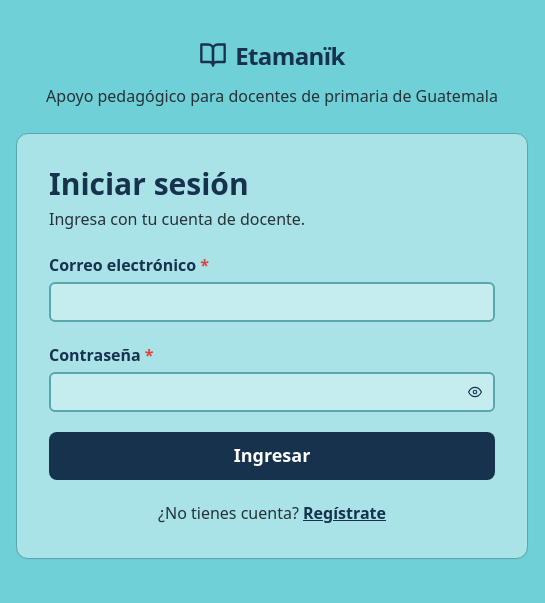
Test case: Inicio de sesión › valida antes de enviar y enfoca el primer campo con error
Click the button "Ingresar" at point(272, 456), box [49,432,495,480]
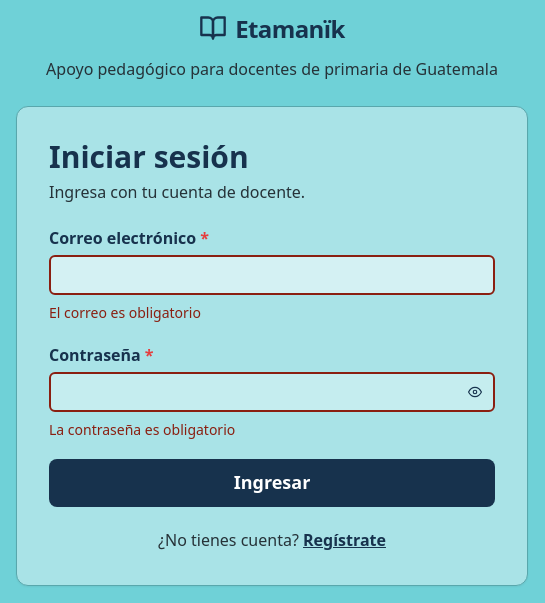
expect the text "El correo es obligatorio" is shown: met, box [49,302,201,322]
expect the text "La contraseña es obligatorio" is shown: met, box [49,420,235,438]
